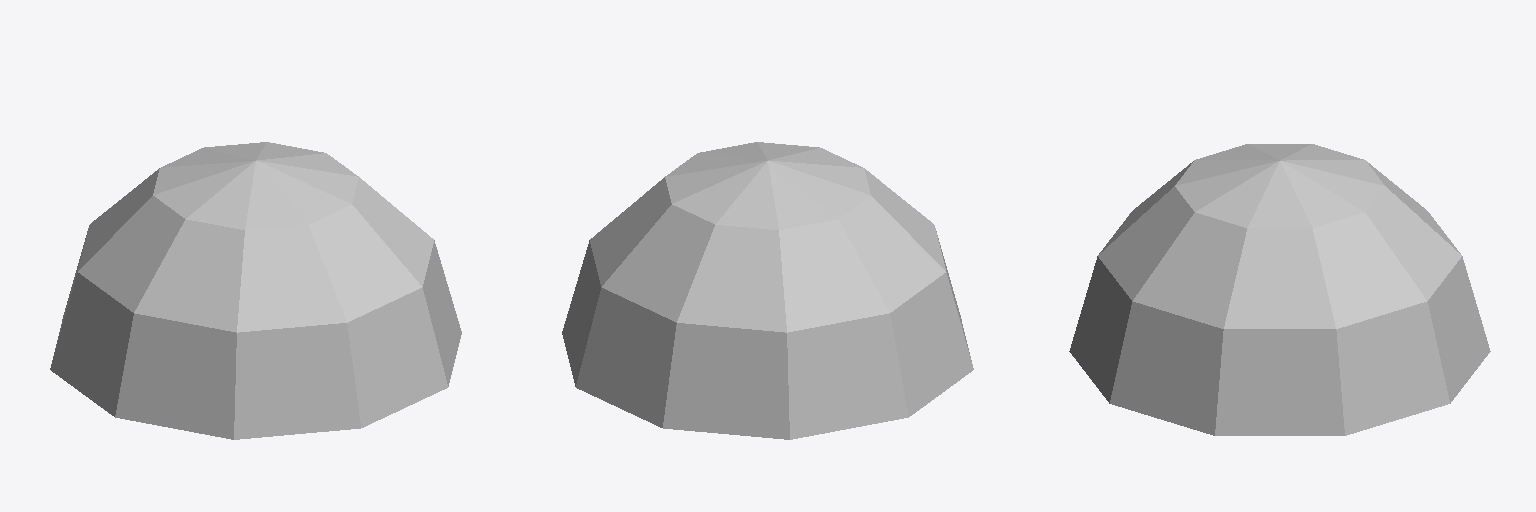
Rendered from vis_lowQ1.obj.
3 renders of one model, left to right at view 1: azimuth 30°, elevation 25°; view 2: azimuth 150°, elevation 25°; view 3: azimuth 270°, elevation 25°, orthographic.
Visible parts, largest first — view 1: Sphere; view 2: Sphere; view 3: Sphere.
Part boxes in pixels (left/top/right/bottom): Sphere: left=50, top=142, right=461, bottom=439; Sphere: left=562, top=142, right=973, bottom=439; Sphere: left=1069, top=144, right=1490, bottom=435.
Bounding box in the file's own units: 1.9 × 1 × 2.